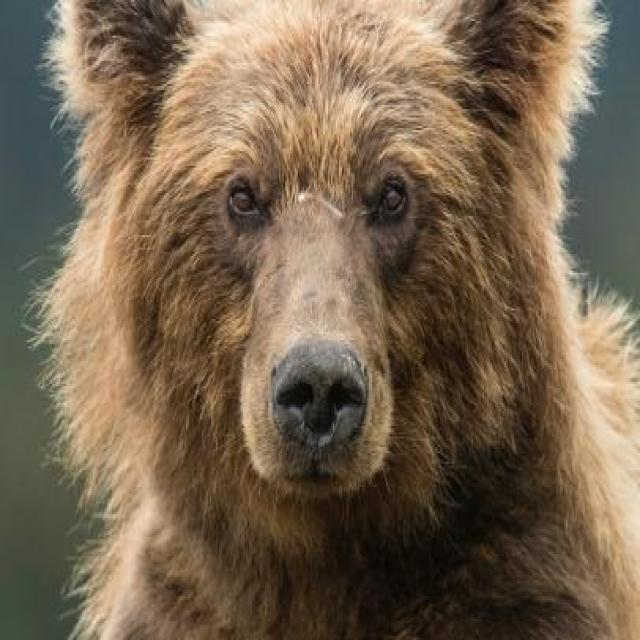Bear: (24, 0, 640, 640)
